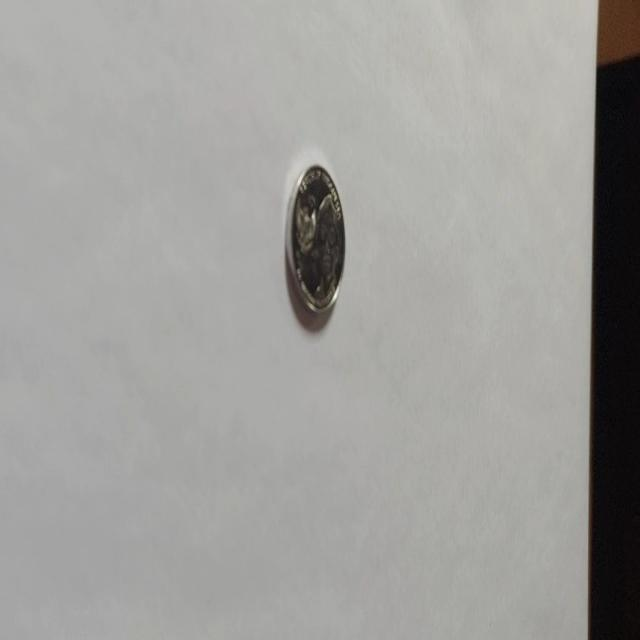dua ratus rupiah: (284, 162, 346, 316)
